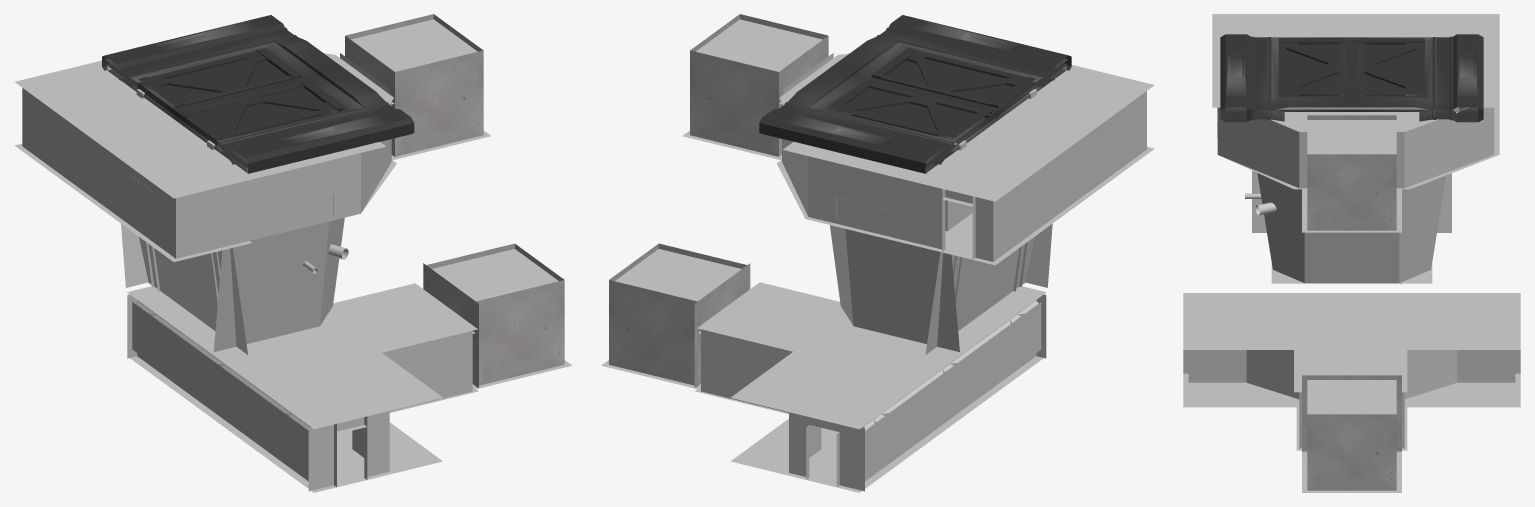
Rendered from room2_nuke_hcz.fbx.
3 views of the same model, side by side, from view 1: azimuth 30°, elevation 25°; view 2: azimuth 150°, elevation 25°; view 3: azimuth 270°, elevation 25° (orthographic). The views are drawn at different scales.
Visible parts, largest first — view 1: concretewall, concretefloor, containment_doors, metal, metalpanels, dirtymetal, metal3; view 2: concretefloor, concretewall, containment_doors, metal, metalpanels, dirtymetal, metal3; view 3: concretefloor, containment_doors, concretewall, metal, metalpanels, metal3, dirtymetal.
Part boxes in pixels (x1,y1,x2,y2): concretewall: (22, 88, 472, 491); concretefloor: (15, 53, 477, 481); containment_doors: (102, 15, 414, 173); metal: (217, 14, 564, 388); metalpanels: (121, 217, 344, 354); dirtymetal: (131, 19, 558, 352); metal3: (14, 120, 571, 492); concretefloor: (697, 53, 1154, 481); concretewall: (701, 91, 1146, 491); containment_doors: (759, 15, 1071, 173); metal: (609, 14, 956, 388); metalpanels: (830, 141, 1052, 354); dirtymetal: (615, 19, 1121, 347); metal3: (601, 130, 1154, 492); concretefloor: (1183, 14, 1520, 392); containment_doors: (1220, 34, 1483, 122); concretewall: (1183, 107, 1520, 448); metal: (1302, 115, 1401, 490); metalpanels: (1252, 170, 1451, 283); metal3: (1183, 107, 1520, 492); dirtymetal: (1245, 120, 1432, 414).
Bounding box in the file's own units: 28.32 × 20.16 × 20.48.
